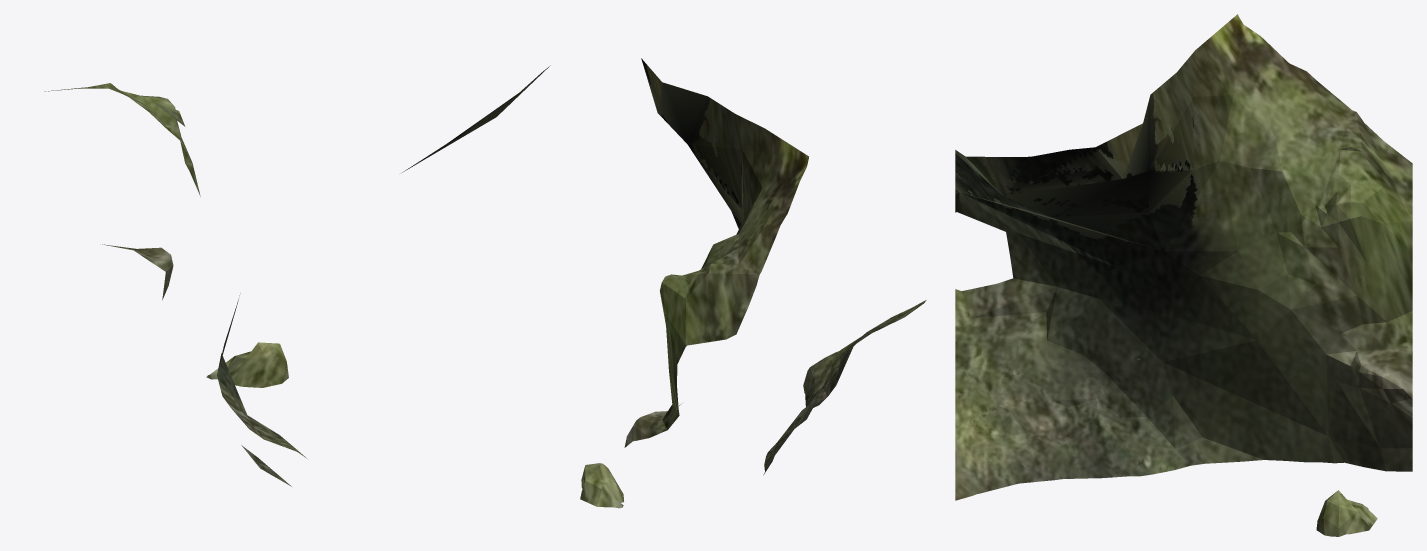
The picture shows the model from 3 angles, left to right: view 1: azimuth 30°, elevation 25°; view 2: azimuth 150°, elevation 25°; view 3: azimuth 270°, elevation 25°; orthographic projection. The views are drawn at different scales.
Bounding box in the file's own units: 2.18 × 2.95 × 2.95.
Materials: 3 (3 with a texture image).
